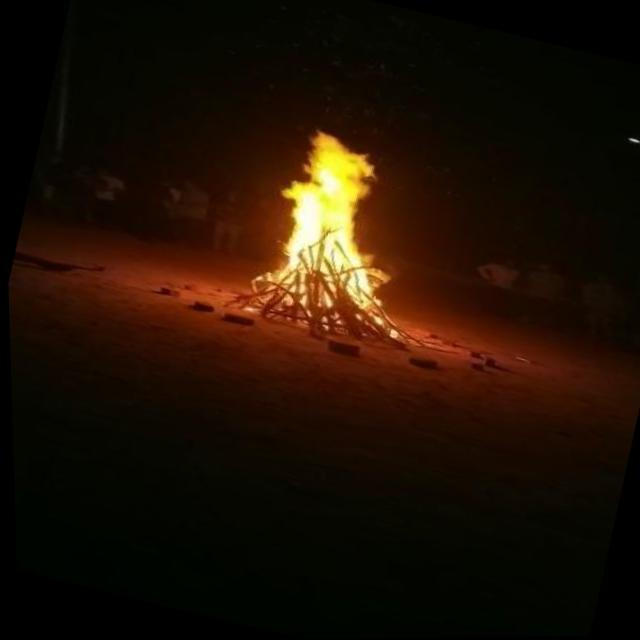fire: (209, 99, 436, 343)
